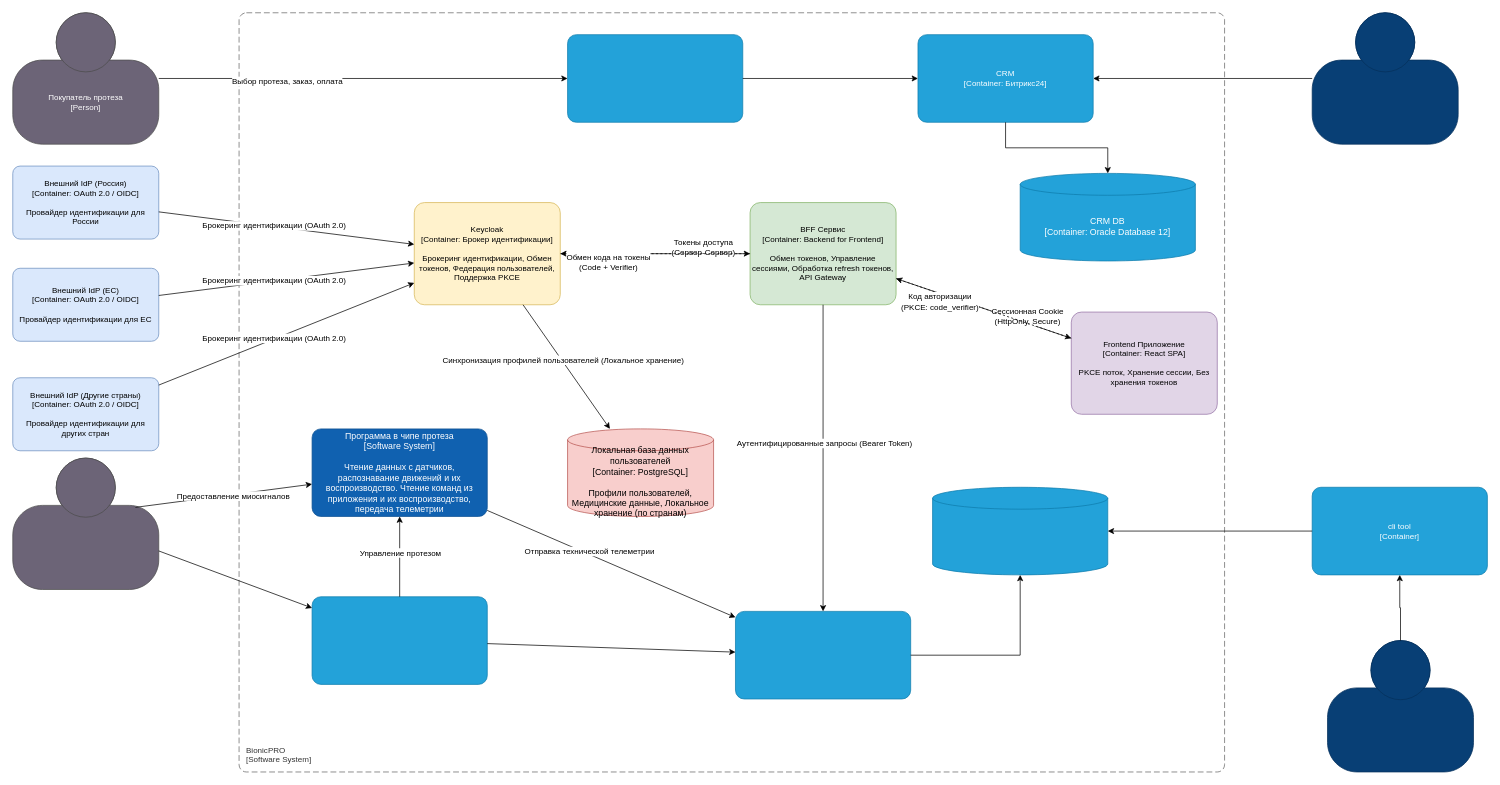
The diagram is 1500 pixels wide and 785 high, and some of its shapes have lost their labels. Each missing label, with the centre of its shape:
API [Container: SpringBoot]: pixel 823 655
ML-инженер [Person]: pixel 1400 706
База данных [Container: PostgreSQL]: pixel 1020 531
Интернет-магазин [Container: Битрикс24]: pixel 655 78
Оператор производства [Person]: pixel 1384 78
Пилот протеза [Person] С этого человека считываются данные: pixel 85 523
Приложение для донастройки протеза [Container: iOS, Android]: pixel 399 640
